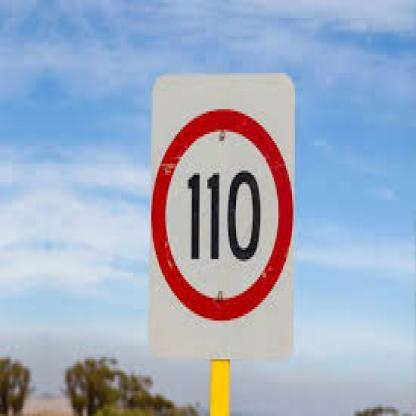Speed Limit 110: (150, 111, 292, 318)
